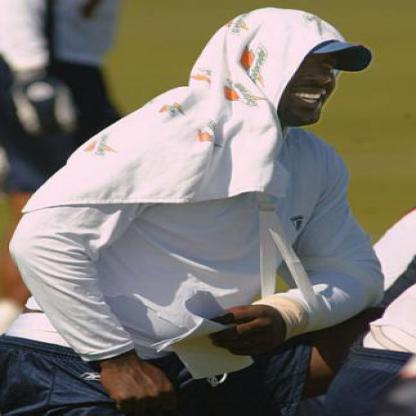face: (248, 13, 349, 131)
